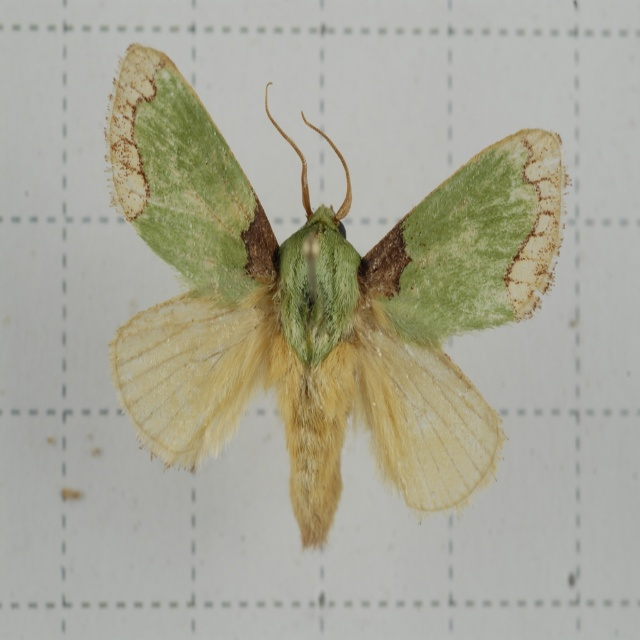Butterfly: (108, 72, 552, 566)
